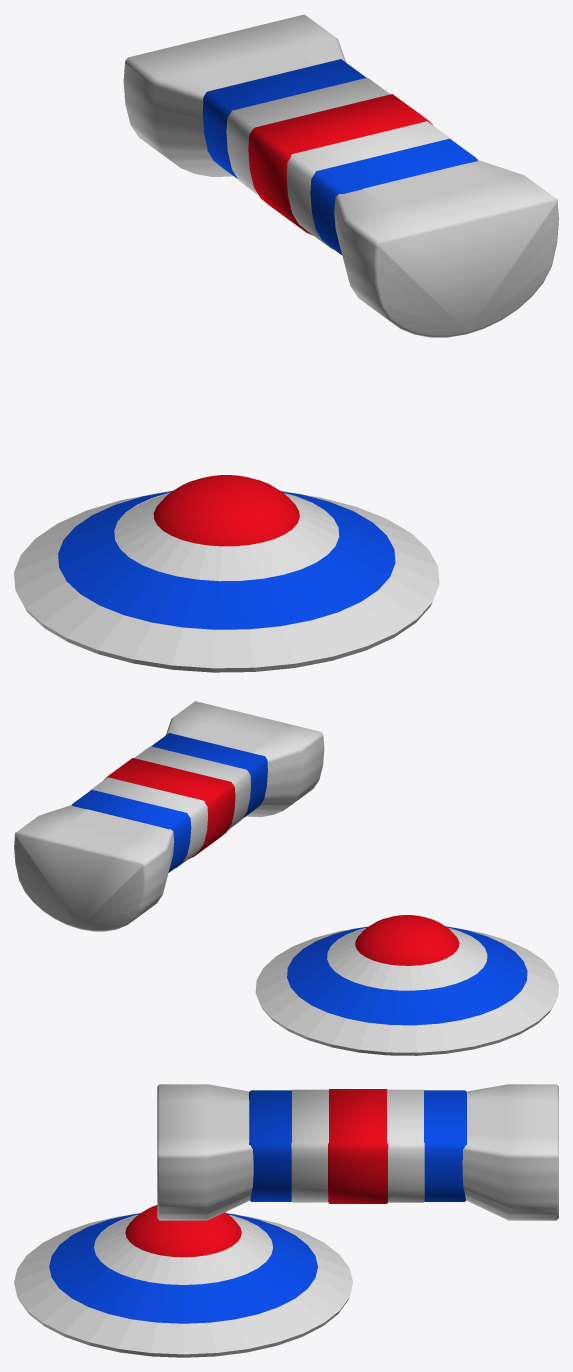
The model's file is Target Uppercut.fbx.
The picture shows the model from 3 angles, top to bottom: view 1: azimuth 30°, elevation 25°; view 2: azimuth 150°, elevation 25°; view 3: azimuth 270°, elevation 25°; orthographic projection. The views are drawn at different scales.
Visible parts, largest first — view 1: Cylinder, Cone, Cone.002, Cylinder.001, Cone.001, Cylinder.002, Sphere, Cylinder.003; view 2: Cylinder, Cone, Cone.002, Cylinder.001, Cone.001, Cylinder.002, Sphere, Cylinder.003; view 3: Cylinder, Cone, Cone.002, Cylinder.001, Cylinder.002, Cylinder.003, Cone.001, Sphere.
Part boxes in pixels (x1,y1,x2,y2): Cylinder: (123, 14, 558, 337); Cone: (14, 492, 439, 672); Cone.002: (58, 490, 395, 629); Cylinder.001: (202, 59, 477, 255); Cone.001: (114, 493, 339, 581); Cylinder.002: (226, 77, 452, 249); Sphere: (153, 475, 299, 546); Cylinder.003: (248, 94, 432, 235); Cylinder: (14, 701, 324, 931); Cone: (255, 927, 558, 1055); Cone.002: (287, 926, 527, 1025); Cylinder.001: (72, 733, 267, 872); Cone.001: (327, 928, 487, 990); Cylinder.002: (90, 746, 250, 868); Sphere: (355, 915, 459, 965); Cylinder.003: (104, 758, 235, 858); Cylinder: (157, 1084, 558, 1220); Cone: (14, 1214, 352, 1357); Cone.002: (49, 1213, 317, 1323); Cylinder.001: (249, 1090, 466, 1201); Cylinder.002: (291, 1089, 424, 1202); Cylinder.003: (328, 1089, 388, 1203); Cone.001: (94, 1215, 272, 1284); Sphere: (125, 1205, 241, 1257).
Bounding box in the file's own units: 365 × 226 × 432.
